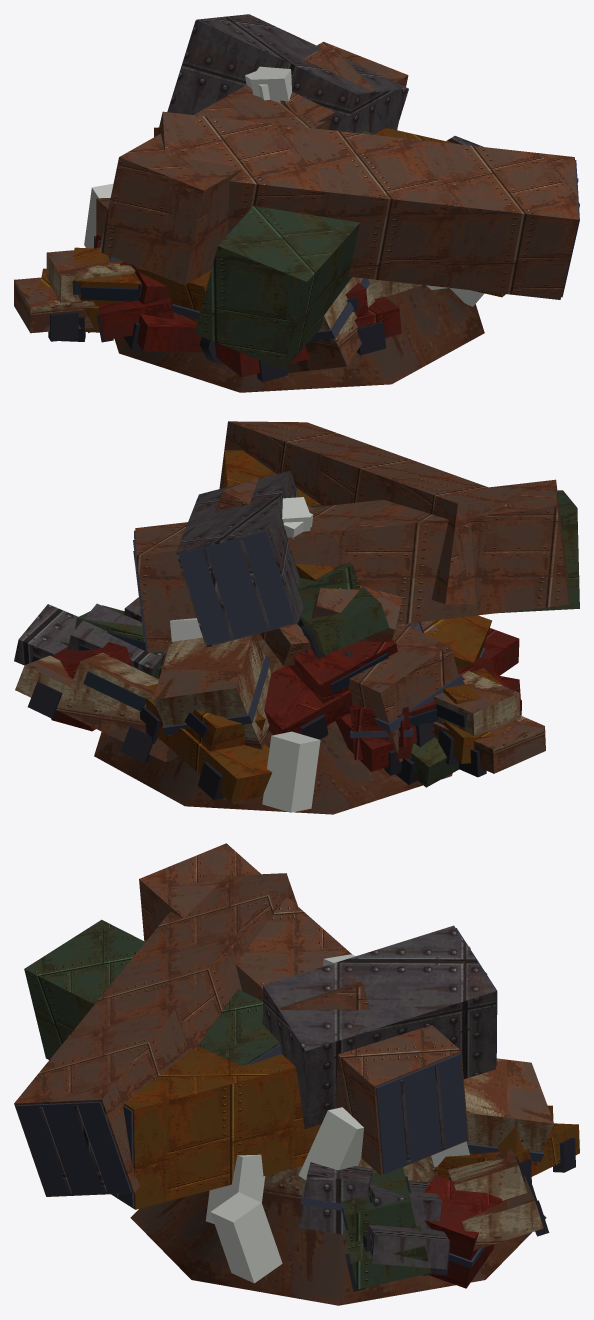
Rendered from scrap_pile_l.glb.
3 views of the same model, one above another, from view 1: azimuth 30°, elevation 25°; view 2: azimuth 150°, elevation 25°; view 3: azimuth 270°, elevation 25° (orthographic). The views are drawn at different scales.
Parts seen in each view (by area): view 1: scrap_pile_l; view 2: scrap_pile_l; view 3: scrap_pile_l.
Boxes of the visible parts, x1,y1,x2,y2 form: scrap_pile_l: (14,14,579,392); scrap_pile_l: (14,421,579,814); scrap_pile_l: (14,843,579,1305).
Bounding box in the file's own units: 14.13 × 7.12 × 13.44.
Materials: 10 (6 with a texture image).
